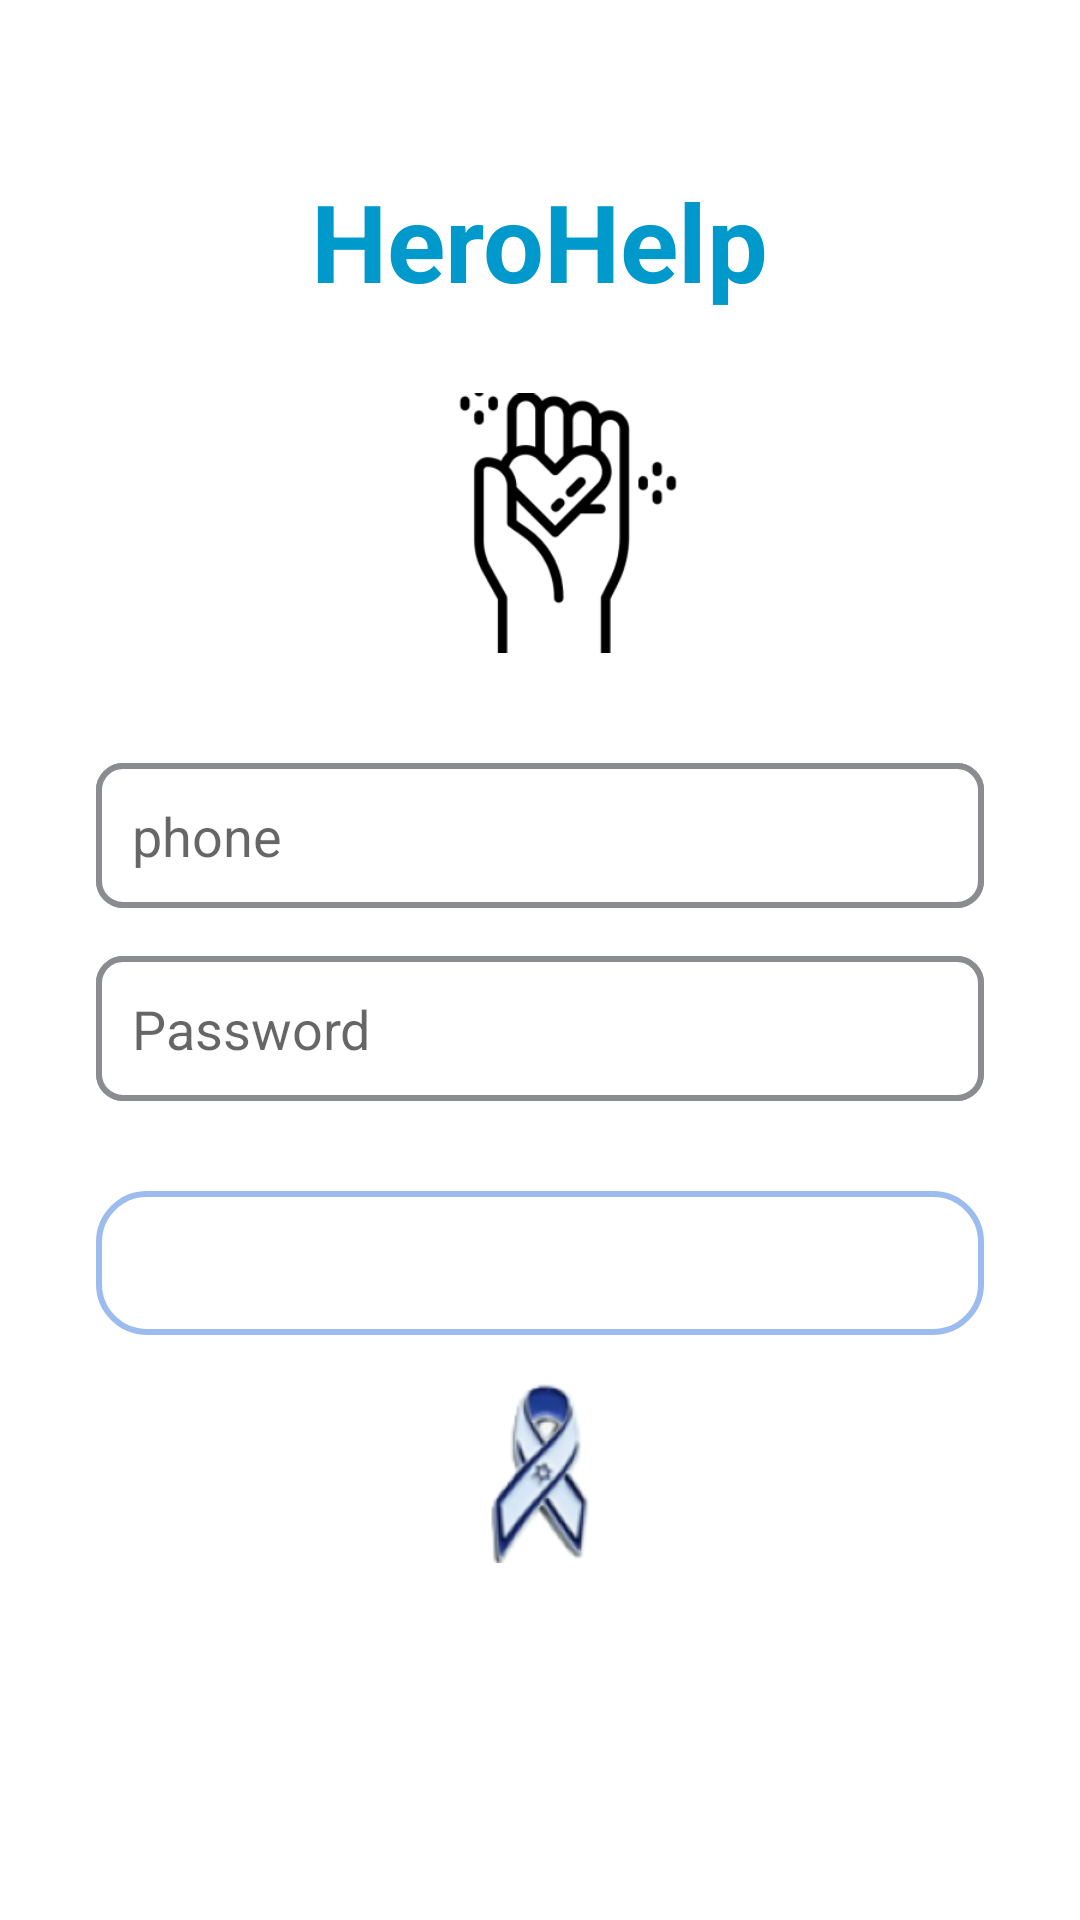

Screen size 1080 x 1920. Icon name, then its center in pixels as (x,y):
israel: (539,1474)
